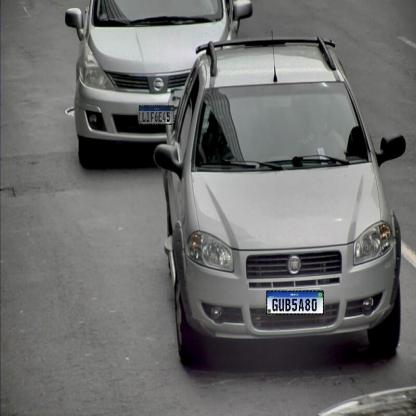PlacaM: (266, 290, 324, 315), (139, 105, 174, 125)
